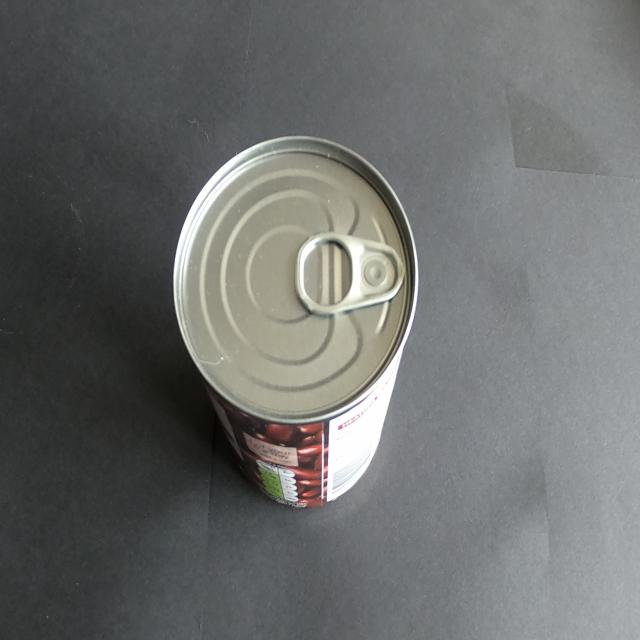Redbeans: (166, 122, 441, 526)
